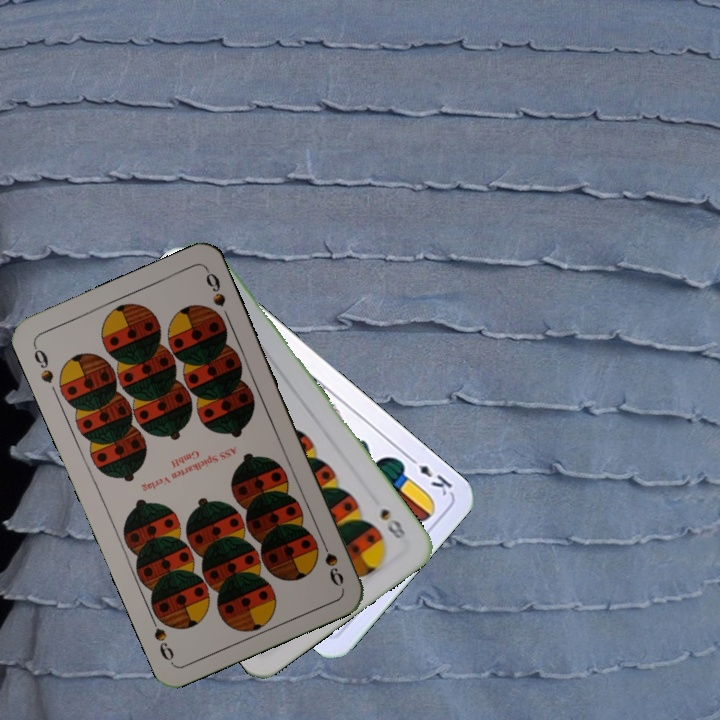EK: (404, 451, 456, 499)
S8: (376, 504, 409, 542)
S9: (316, 533, 347, 590), (29, 340, 57, 386)
